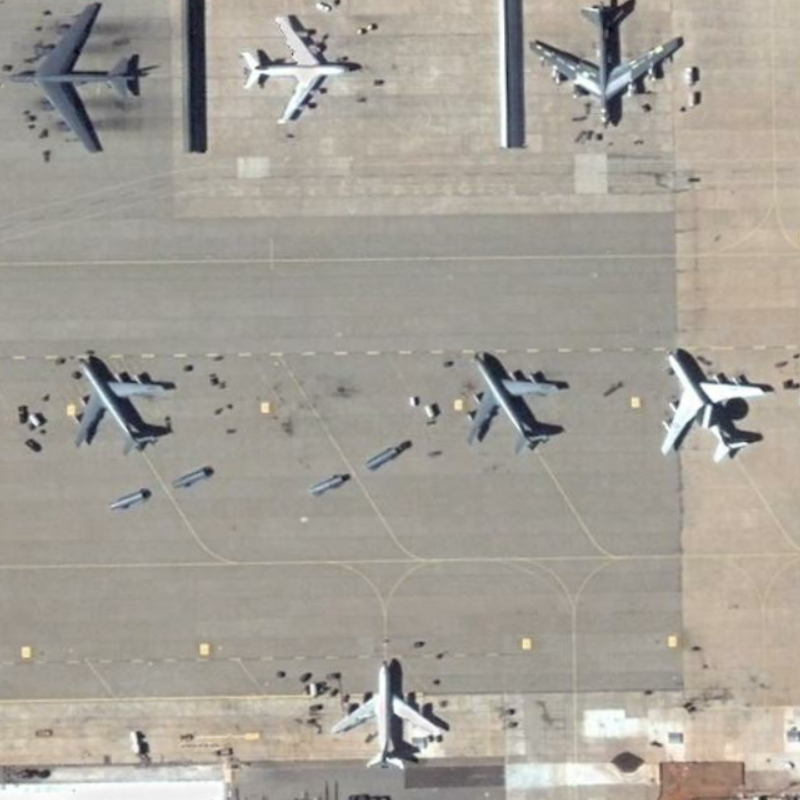A11: (326, 651, 459, 772), (233, 9, 365, 129)
A14: (63, 351, 187, 462), (463, 344, 572, 460)
A7: (655, 342, 772, 467)
A8: (1, 1, 159, 164), (518, 1, 692, 134)
